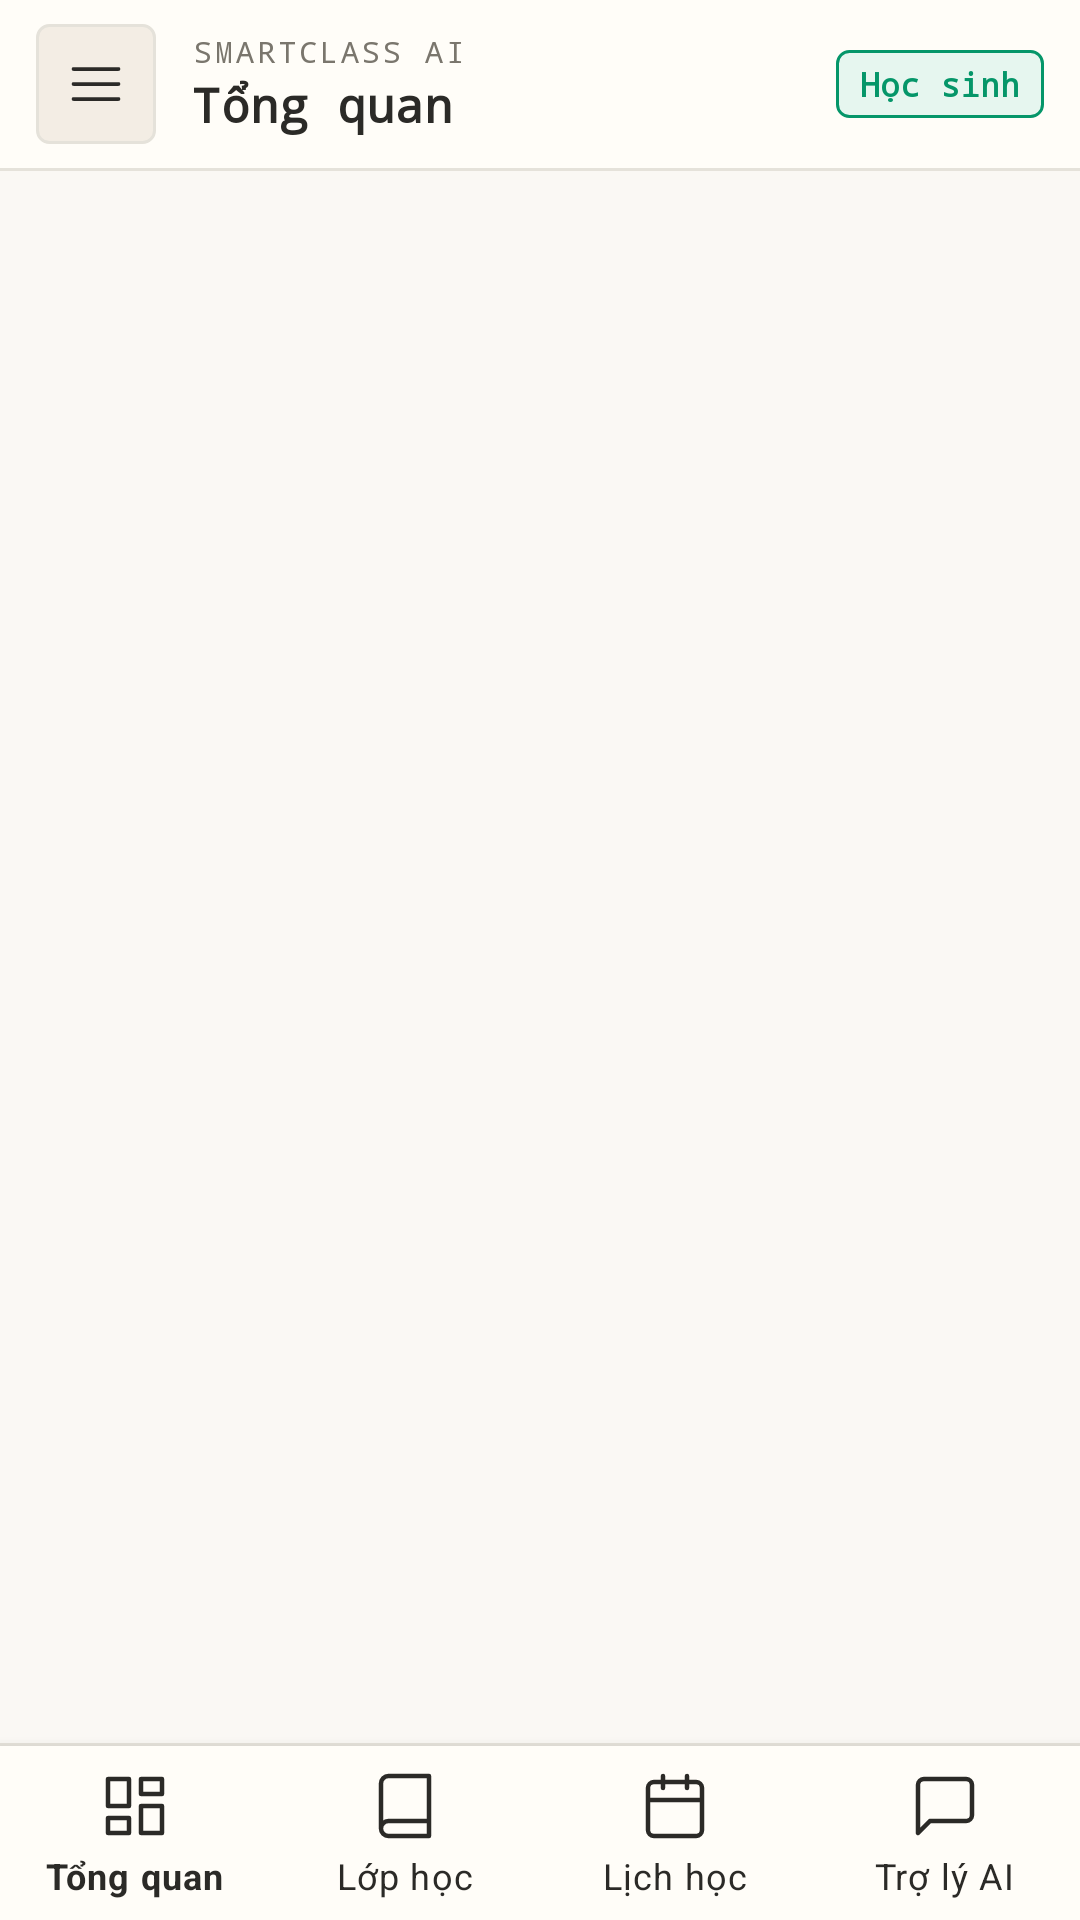

Where to tap for icons on this 1080w x 1920h app screen, as point (x, y):
Mở danh mục: point (96, 84)
